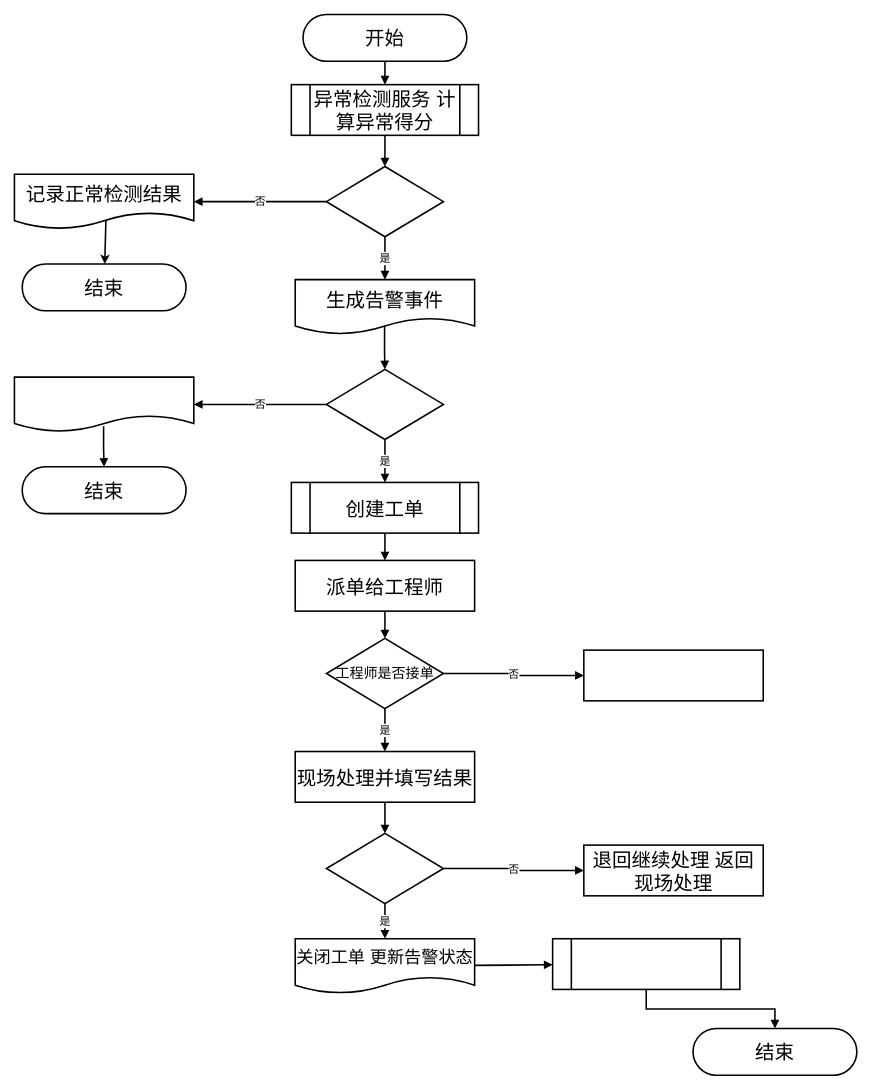
Image size: 870x1089. Some labels were removed from this diagram. The shapes that lost their labels are listed below. From the top down, each one's centre as x and y in pixels, then its label:
[384,201]: 是否触发告警
[103,404]: 标记为误报 沉淀反馈样本
[384,404]: 管理员确认告警
[673,675]: 重新派单 返回派单环节
[384,868]: 复核是否通过
[645,964]: 反馈进入训练样本 形成闭环
